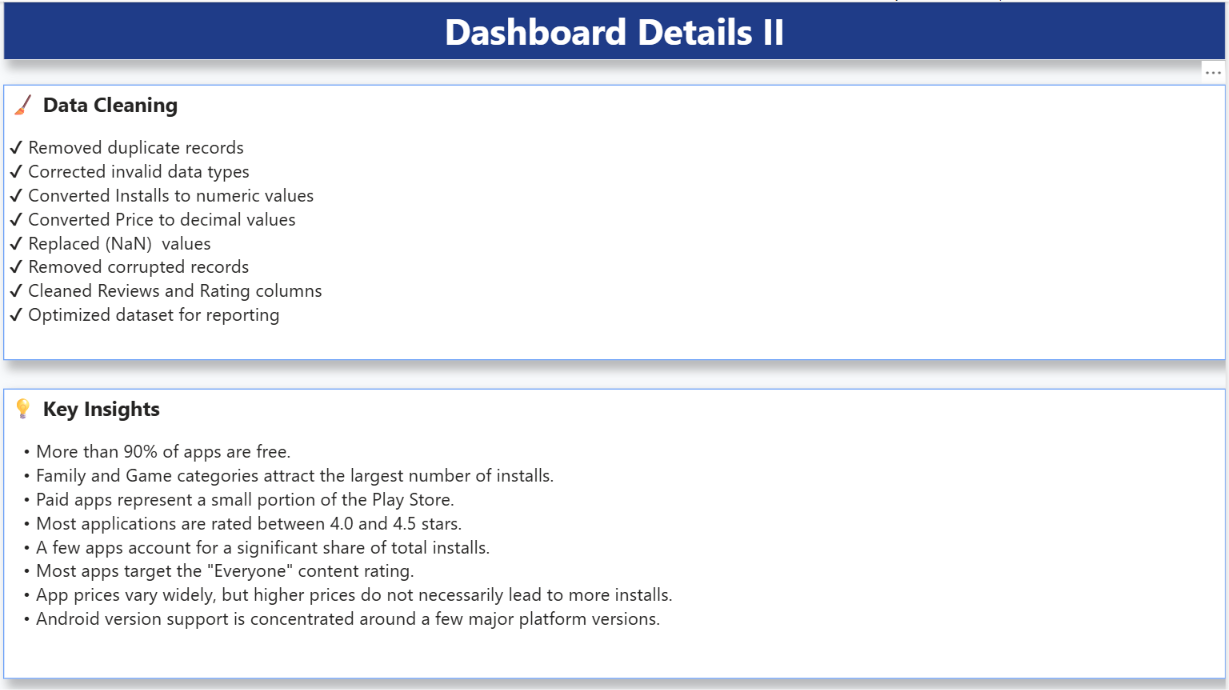

The dashboard page shown, as its layout file describes it:
{"tool":"powerbi","page":{"name":"Dashboard Details II","canvas":[1280,720],"ordinal":5},"visuals":[{"type":"textbox","box":[9.8,0,1270.5,60],"z":0},{"type":"textbox","box":[9.6,86.4,1270.7,286.8],"z":1000},{"type":"textbox","box":[9.6,402.1,1270.7,301.9],"z":2000}]}

Visuals, with their boxes on the page's 1280x720 design canvas (x1, y1, x2, y2). These are canvas units, not pixel positions in the 1229x690 screenshot, which may show the page scaled, cropped or inside an application window:
textbox: {"x1": 10, "y1": 0, "x2": 1280, "y2": 60}
textbox: {"x1": 10, "y1": 86, "x2": 1280, "y2": 373}
textbox: {"x1": 10, "y1": 402, "x2": 1280, "y2": 704}
